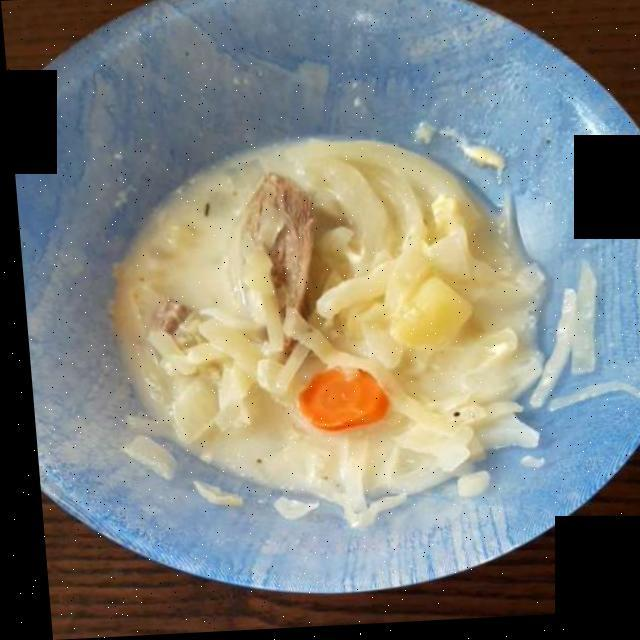bouillon: (125, 156, 348, 510)
cabbage: (158, 139, 623, 500)
carrot: (304, 359, 373, 425)
potatoes: (370, 243, 473, 360)
